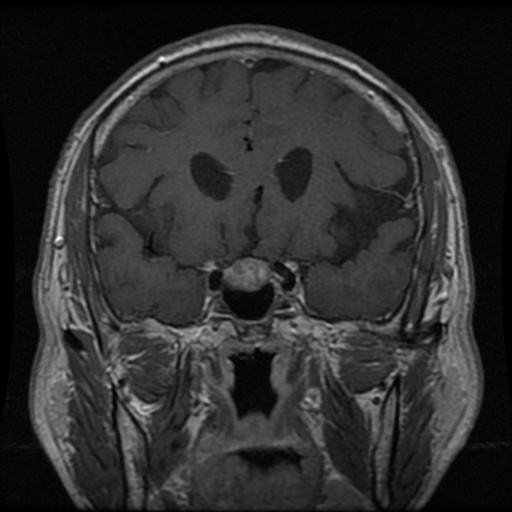pituitary: (223, 255, 275, 291)
